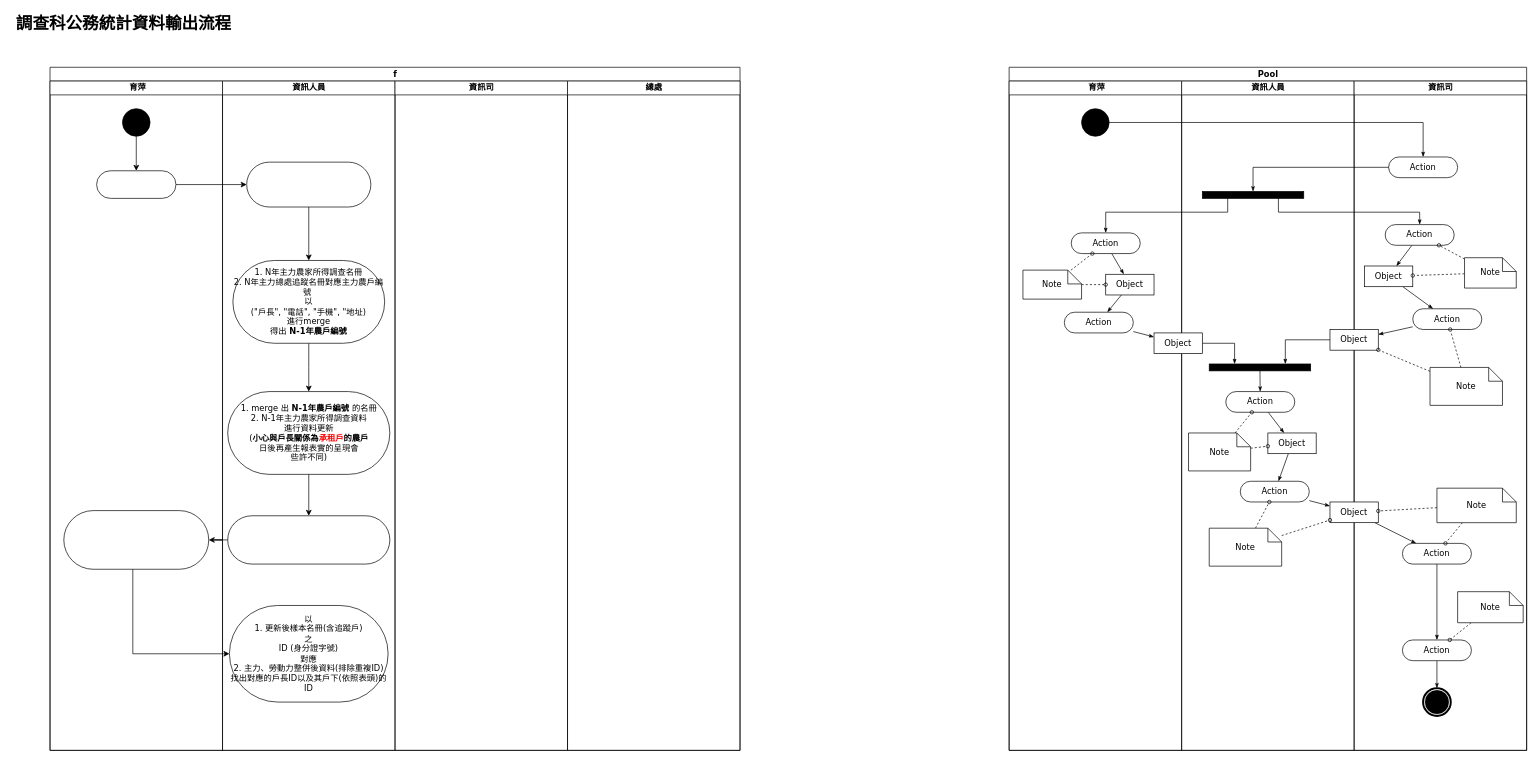
The diagram is 1539 pixels wide and 762 high, and some of its shapes have lost their labels. Here are the shapes that lost their labels. From the top down, the centre of each, then its label:
the point at 136,184: 給予11包資料
the point at 308,184: 每個資料夾內各檔案解密成 .csv
the point at 136,539: 依照 N-1年調查 名冊(含追蹤戶) 產生 1. 銷售收入 2. N年農戶編號 的調查名冊
the point at 308,539: 產生更新後 N-1年調查 名冊(含追蹤戶)
